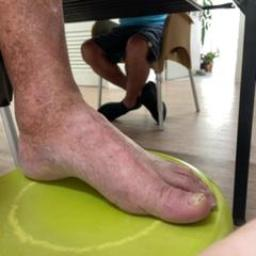Medial View -Left Foot-: (4, 49, 235, 239)
